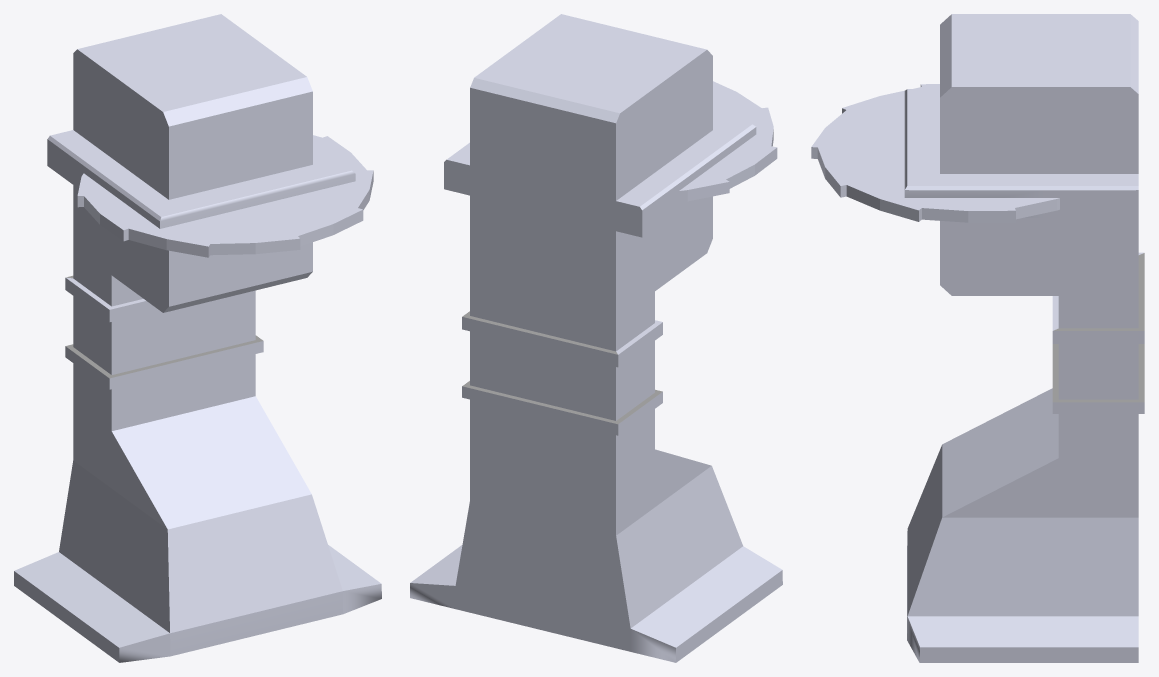
Rendered from Invention_005_Lab_005_PillarOfSaws.fbx.
The picture shows the model from 3 angles, left to right: view 1: azimuth 30°, elevation 25°; view 2: azimuth 150°, elevation 25°; view 3: azimuth 270°, elevation 25°; orthographic projection. The views are drawn at different scales.
Parts seen in each view (by area): view 1: Invention_005_Lab_005_PillarOfSaws; view 2: Invention_005_Lab_005_PillarOfSaws; view 3: Invention_005_Lab_005_PillarOfSaws.
Boxes of the visible parts, x1,y1,x2,y2 form: Invention_005_Lab_005_PillarOfSaws: (14,14,381,662); Invention_005_Lab_005_PillarOfSaws: (410,14,782,662); Invention_005_Lab_005_PillarOfSaws: (811,14,1144,662).
Size of the model in its own units: 159 by 303 by 168.
